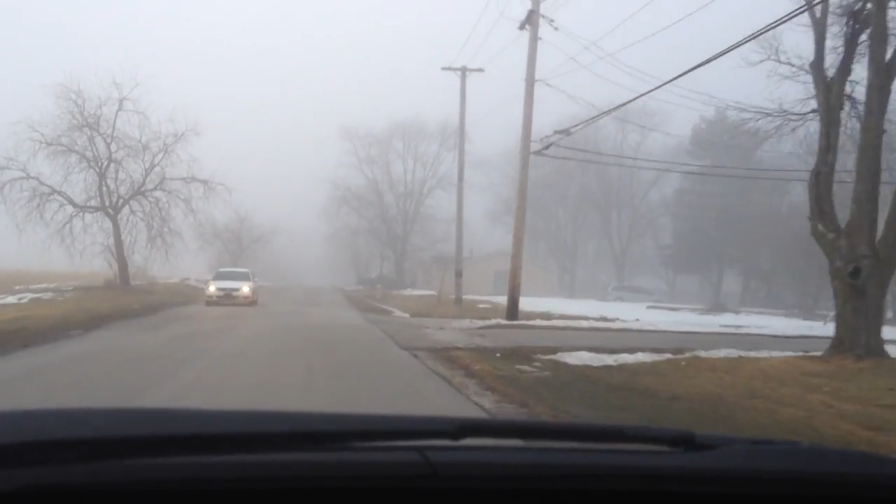car: (205, 266, 259, 306), (606, 282, 665, 305), (356, 271, 411, 292)
